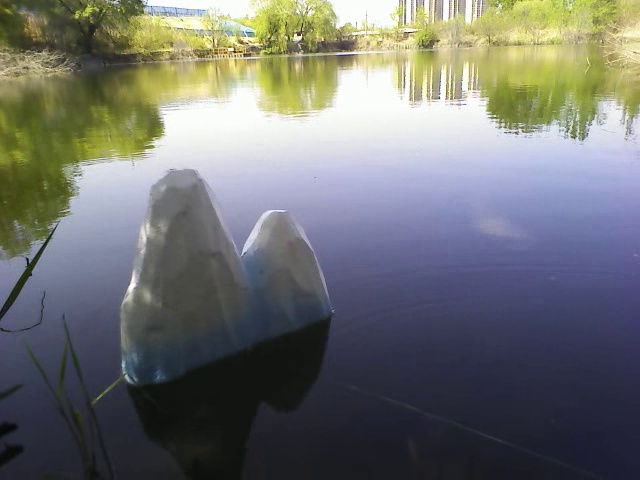iceberg: (114, 166, 338, 387)
